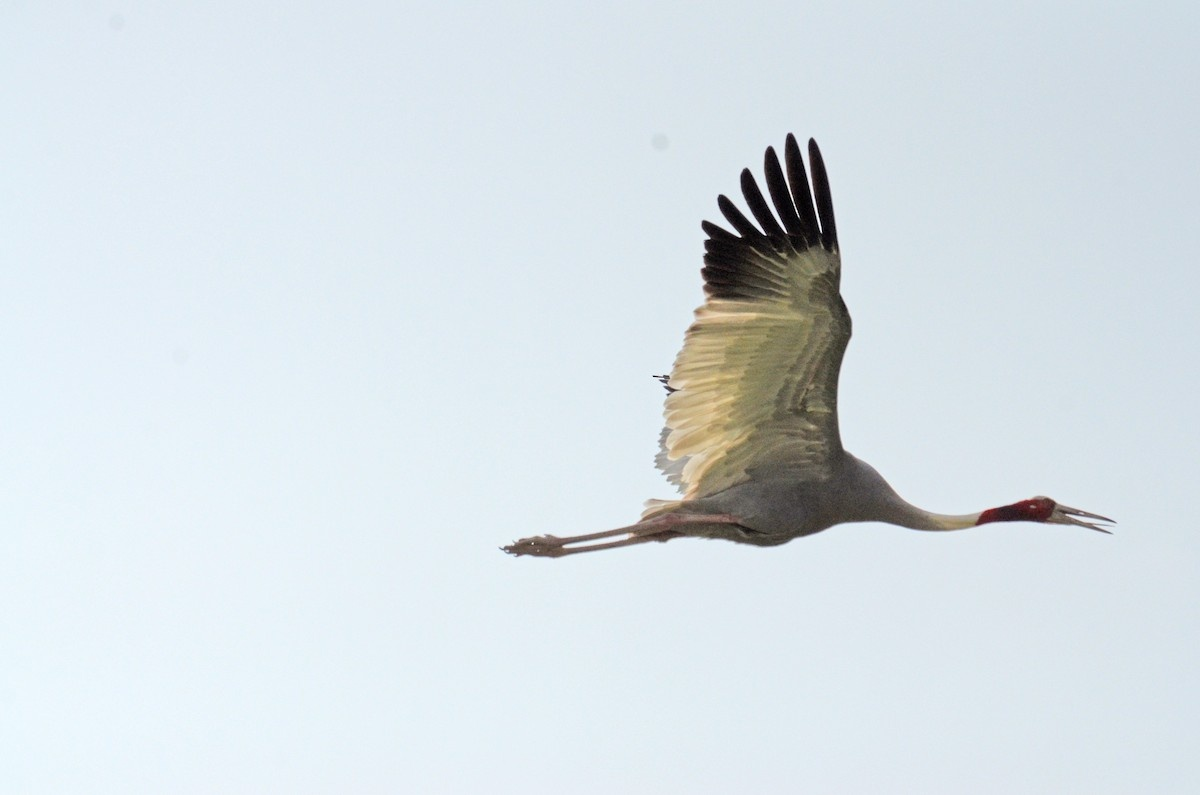crane: (494, 118, 1122, 572)
